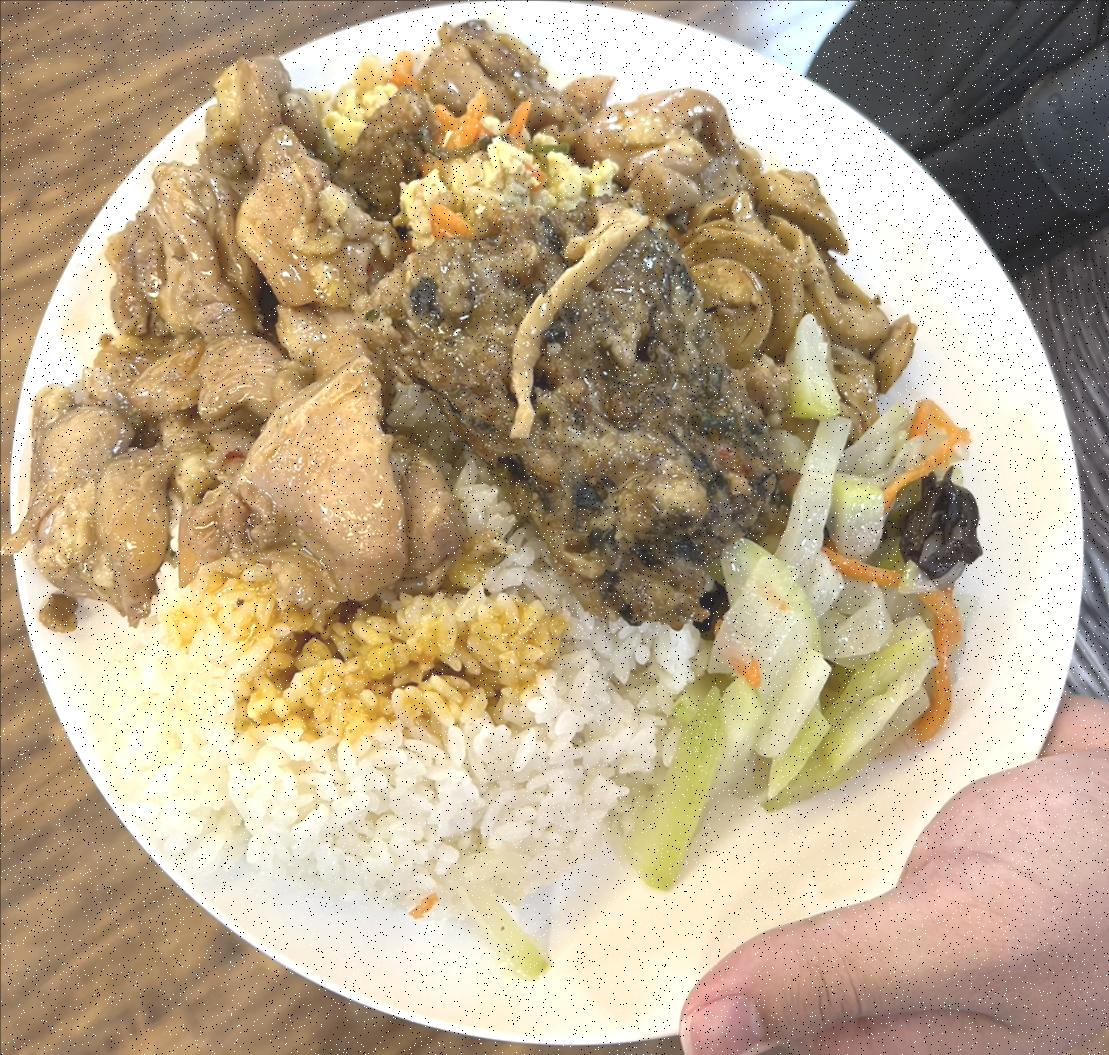big fried chicken leg: (10, 10, 1104, 1054)
big herbal chicken leg: (135, 569, 706, 892)
braised fish fillet: (636, 380, 993, 879), (690, 170, 923, 416)
braised pork: (26, 49, 422, 608), (393, 208, 794, 628)
